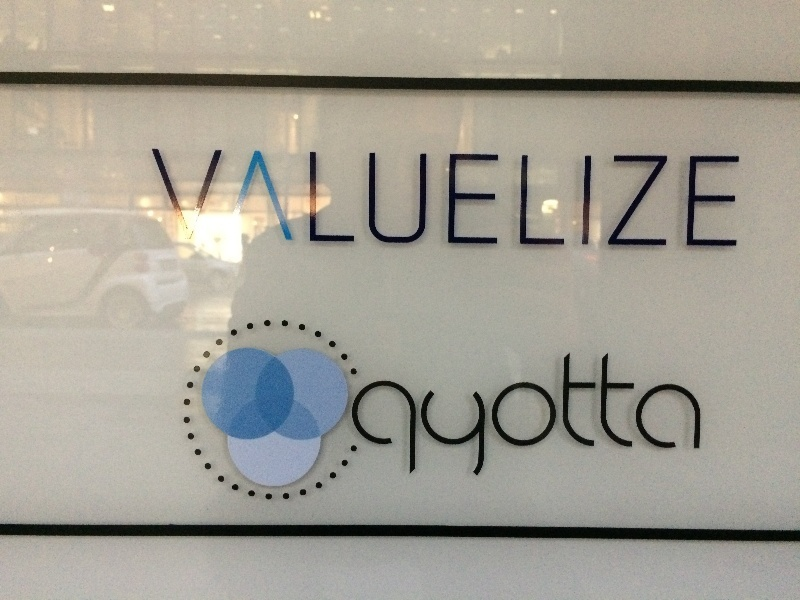text: (353, 348, 368, 484), (369, 348, 384, 484), (385, 348, 400, 484), (401, 348, 416, 484), (417, 348, 432, 484), (433, 348, 448, 484), (449, 348, 464, 484), (465, 348, 480, 484), (481, 348, 496, 484), (497, 348, 512, 484), (513, 348, 528, 484), (529, 348, 544, 484), (545, 348, 560, 484), (561, 348, 576, 484), (577, 348, 592, 484), (593, 348, 608, 484), (609, 348, 624, 484), (625, 348, 640, 484), (641, 348, 656, 484), (657, 348, 672, 484), (673, 348, 688, 484), (689, 348, 704, 484), (161, 147, 176, 250), (177, 147, 192, 250), (193, 147, 208, 250), (209, 147, 224, 250), (225, 147, 240, 250), (241, 147, 256, 250), (257, 147, 272, 250), (273, 147, 288, 250), (289, 147, 304, 250), (305, 147, 320, 250), (321, 147, 336, 250), (337, 147, 352, 250), (353, 147, 368, 250), (369, 147, 384, 250), (385, 147, 400, 250), (401, 147, 416, 250), (417, 147, 432, 250), (433, 147, 448, 250), (449, 147, 464, 250), (465, 147, 480, 250), (481, 147, 496, 250), (497, 147, 512, 250), (513, 147, 528, 250), (529, 147, 544, 250), (545, 147, 560, 250), (561, 147, 576, 250), (577, 147, 592, 250), (593, 147, 608, 250), (609, 147, 624, 250), (625, 147, 640, 250), (641, 147, 656, 250), (657, 147, 672, 250), (673, 147, 688, 250), (689, 147, 704, 250), (705, 147, 720, 250), (721, 147, 736, 250), (342, 348, 352, 484), (149, 147, 160, 250), (737, 147, 742, 250), (705, 348, 706, 484)
